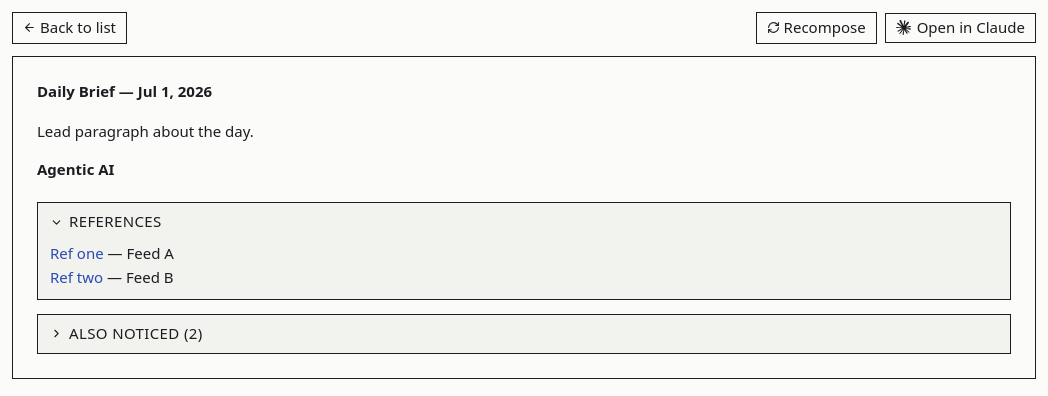
BriefReader sections › shows the paused message when recompose answers 503
Click the button "Recompose": (816, 28) [756, 12, 877, 44]
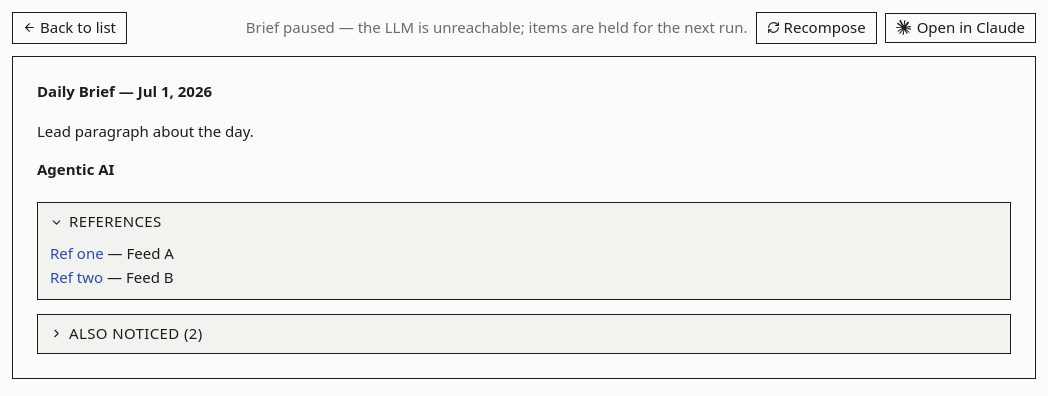
Expected: the text "Brief paused — the LLM is unreachable; items are held for the next run." is shown, [246, 17, 748, 39]
